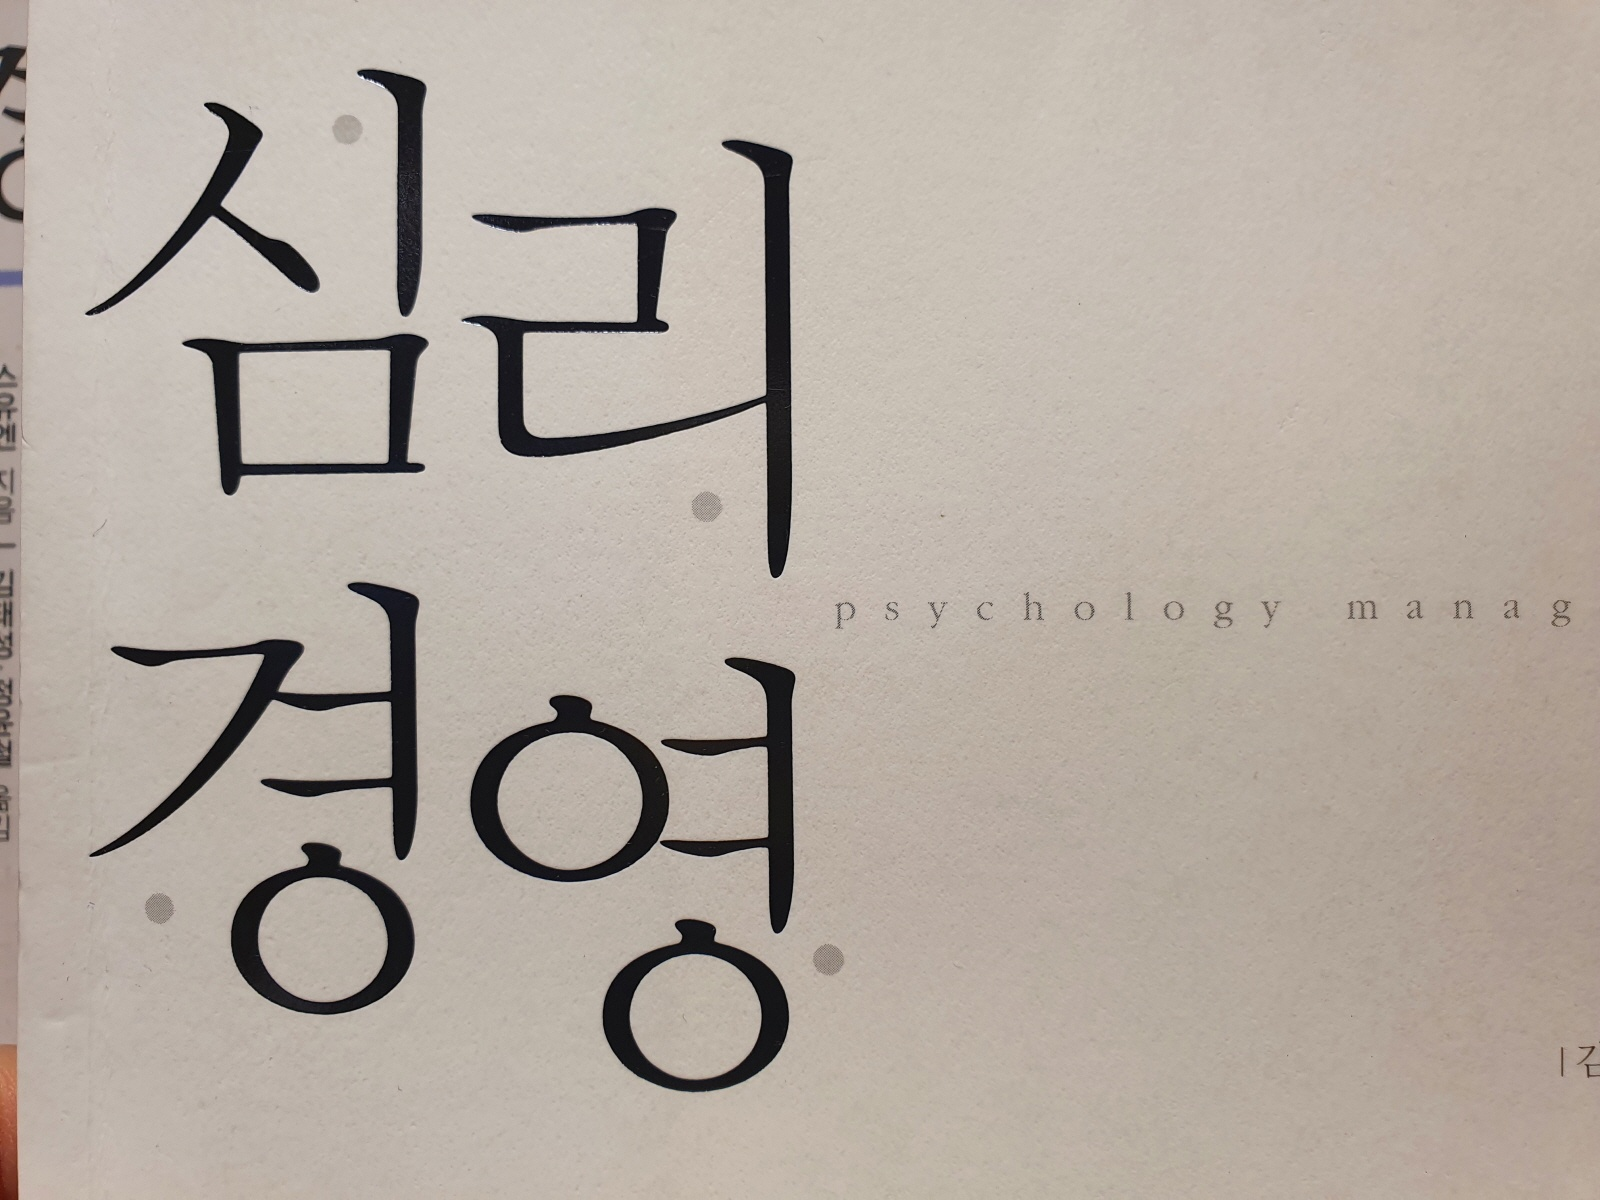text: (59, 48, 877, 579), (58, 579, 830, 1107), (0, 42, 48, 876), (1550, 1017, 1600, 1093)
